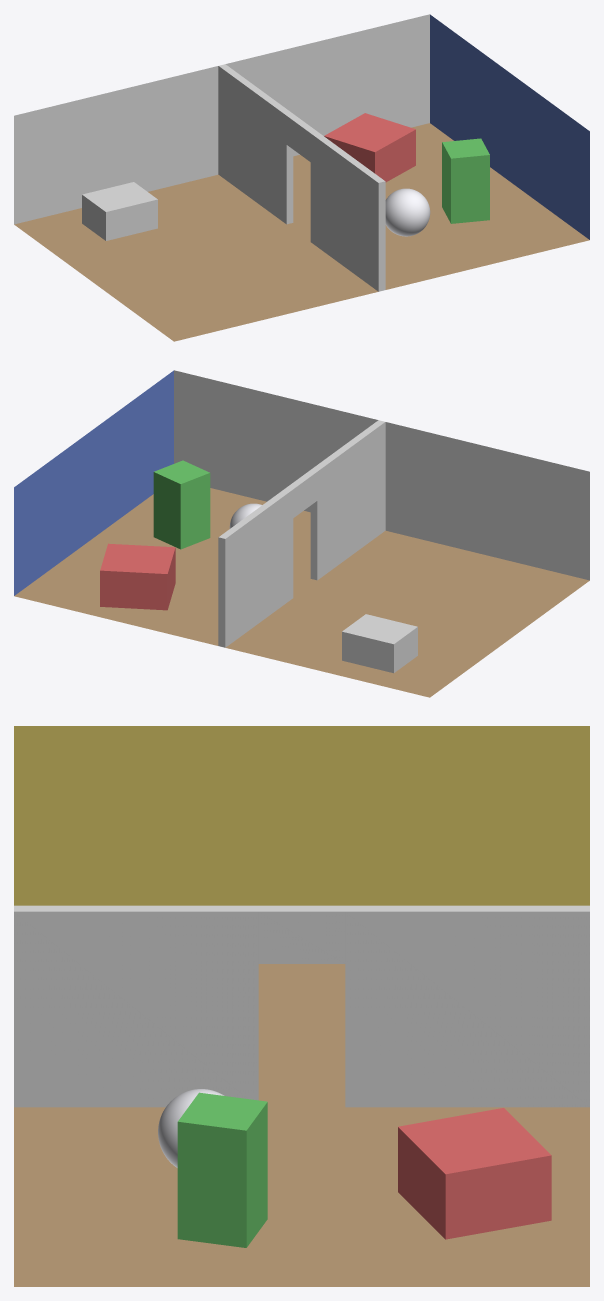
Rendered from indoor.gltf.
3 renders of one model, top to bottom at view 1: azimuth 30°, elevation 25°; view 2: azimuth 150°, elevation 25°; view 3: azimuth 270°, elevation 25°, orthographic. The views are drawn at different scales.
Bounding box in the file's own units: 12 × 3 × 8.
